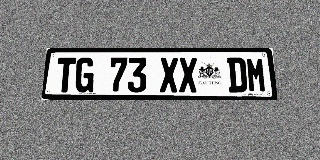3: (127, 57, 147, 92)
7: (108, 58, 128, 92)
D: (227, 57, 248, 92)
G: (74, 58, 95, 92)
M: (246, 57, 267, 92)
T: (55, 58, 76, 92)
X: (179, 57, 198, 92), (160, 57, 178, 92)
